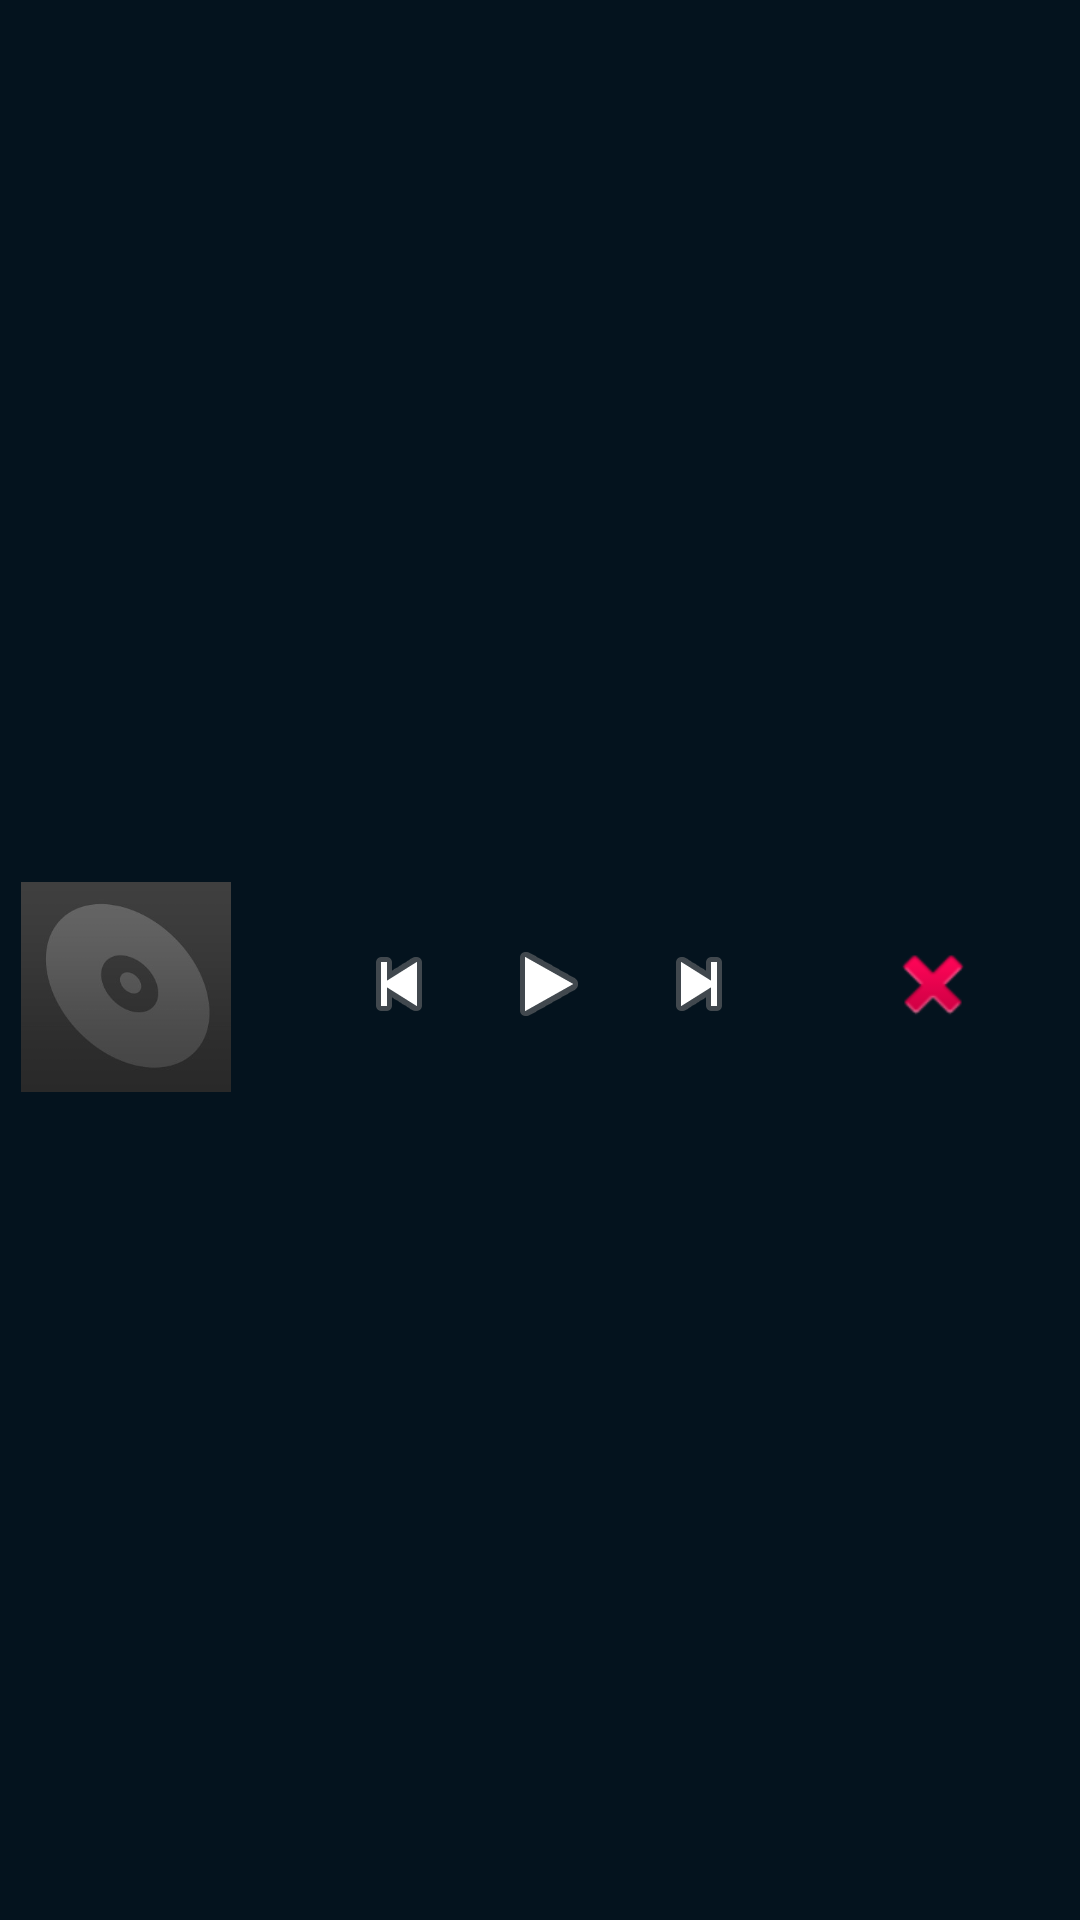

Icon bounding boxes for this 1080x1920 phone screenshot, format (x1,y1,x2,y2):
delete: (902,955,964,1014)
next: (676,957,722,1011)
no album: (21,882,231,1092)
play: (520,952,578,1016)
previous: (376,957,422,1011)
